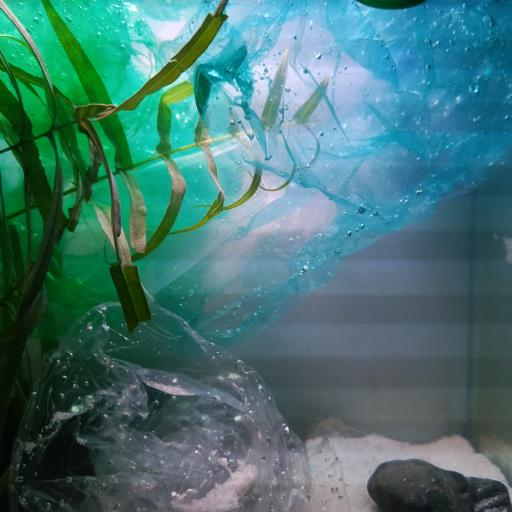plastic_bag: (156, 0, 511, 361), (0, 0, 210, 399), (0, 297, 350, 512)
plastic_cup: (75, 130, 288, 303)
